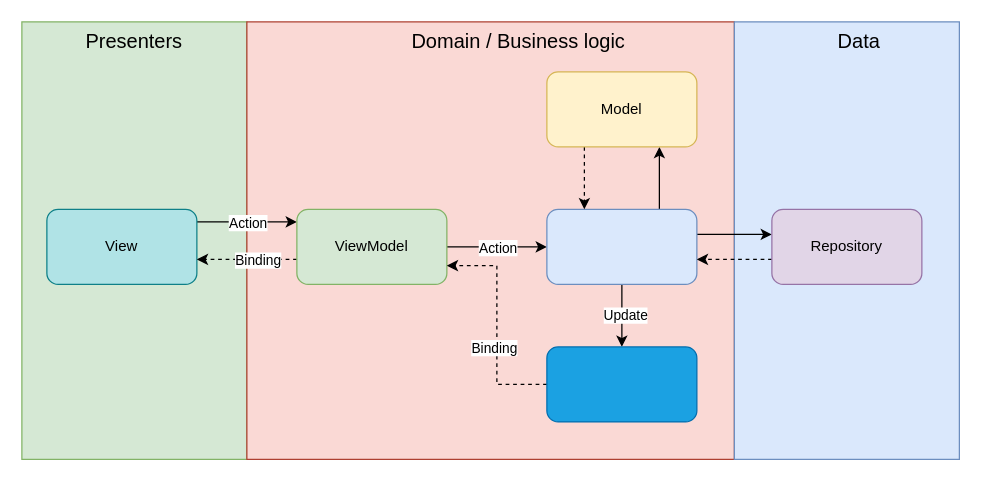
Some shapes in this 981 by 481 pixel diagram are drawn without their labels. The centre of each missing label's shape, as x and y in pixels:
"Service" belongs at point 621,246.
"State" belongs at point 621,384.
